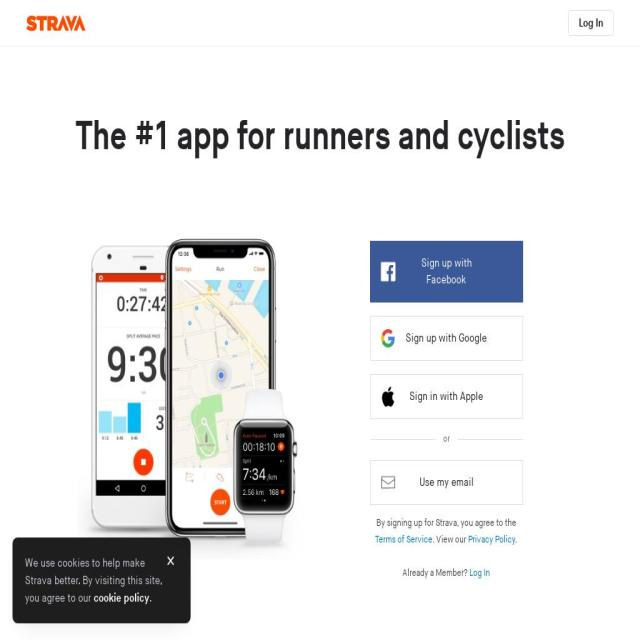button: (369, 241, 523, 302), (369, 316, 523, 361), (369, 374, 523, 419), (369, 460, 523, 505), (568, 10, 614, 36), (163, 551, 178, 571)
heading: (26, 113, 614, 161)
image: (76, 228, 310, 559), (26, 14, 86, 32)
link: (94, 591, 149, 605), (375, 533, 433, 546), (468, 533, 516, 546), (470, 567, 490, 579)
text: (25, 556, 162, 605), (376, 517, 517, 529), (402, 567, 470, 579), (432, 533, 468, 546), (435, 431, 457, 446), (149, 591, 152, 605), (515, 533, 518, 546)
